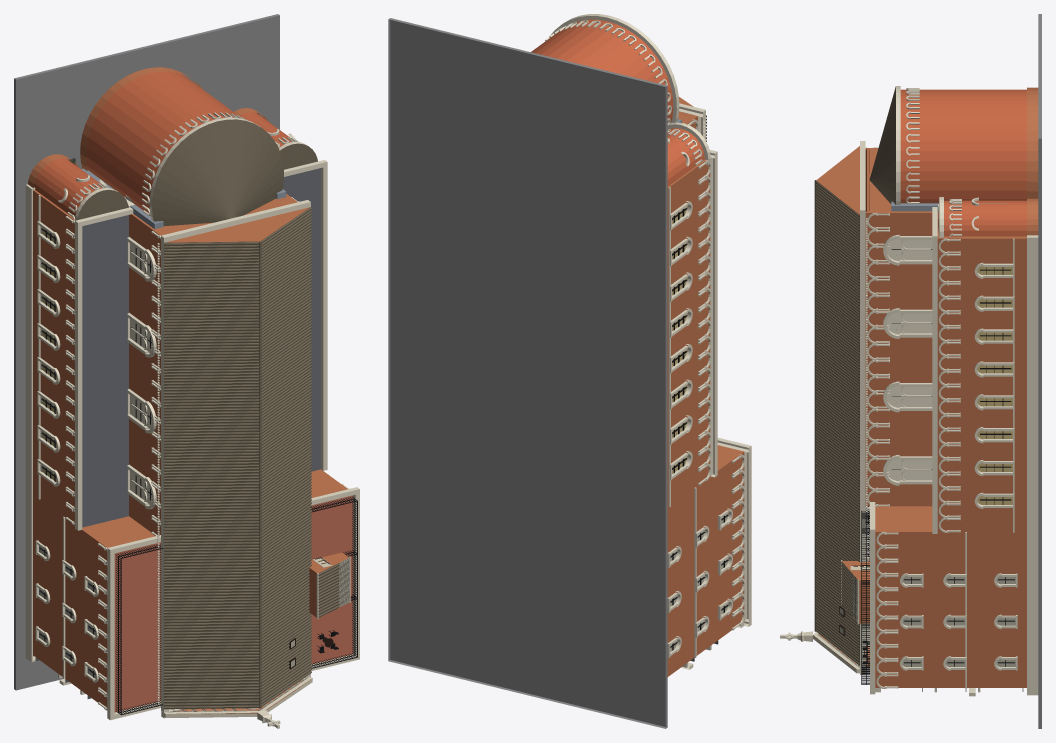
File: san_patrizio.obj
3 views of the same model, side by side, from view 1: azimuth 30°, elevation 25°; view 2: azimuth 150°, elevation 25°; view 3: azimuth 270°, elevation 25° (orthographic). The views are drawn at different scales.
Visible parts, largest first — view 1: san_patrizio; view 2: san_patrizio; view 3: san_patrizio.
Boxes of the visible parts, x1=… form: san_patrizio: x1=14, y1=14, x2=359, y2=728; san_patrizio: x1=388, y1=14, x2=751, y2=728; san_patrizio: x1=780, y1=14, x2=1041, y2=728.
Bounding box in the file's own units: 27.84 × 61.57 × 24.75.
